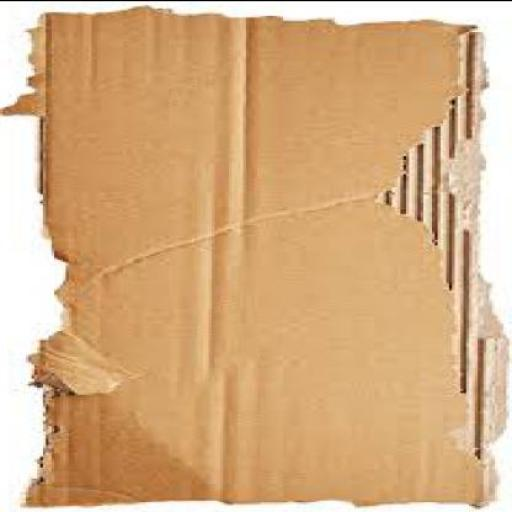cardboard: (2, 5, 511, 511)
